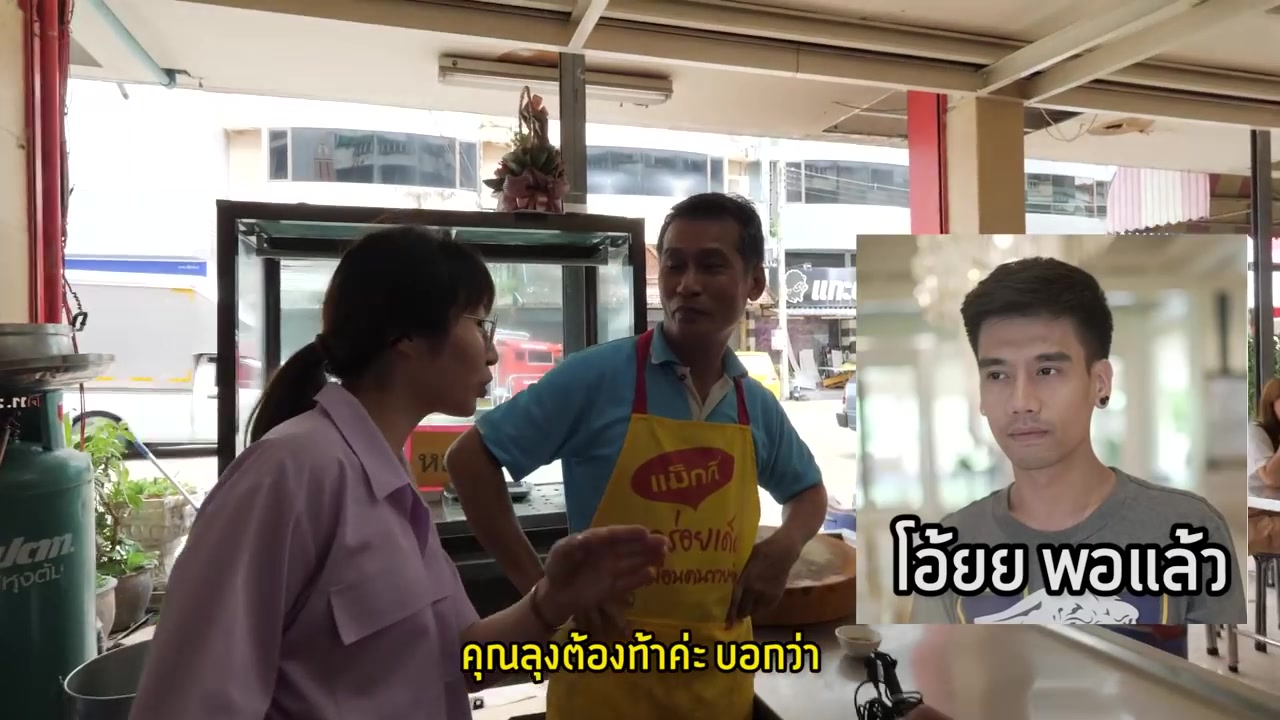text-label: (885, 508, 1236, 605), (454, 627, 825, 686)
